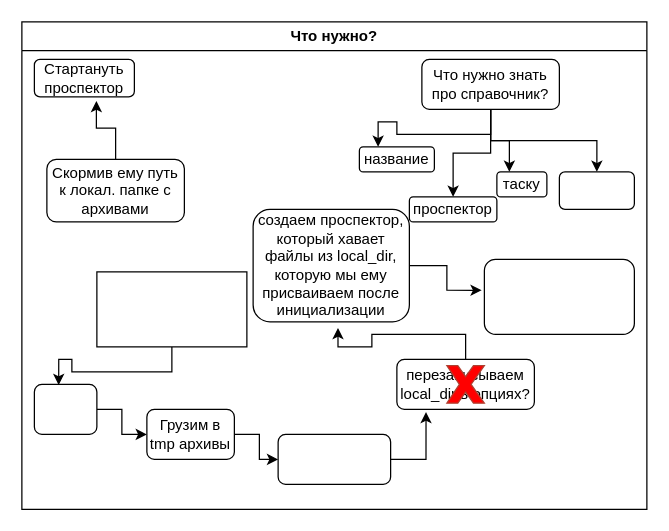
This 669x531 diagram has some shape labels left out. The shapes that lost their labels are listed below. From the top down, each one's centre as x and y in pixels, then its label:
At point (596, 190): "имя файла?".
At point (171, 309): "Что делаем?".
At point (558, 296): "успех!".
At point (65, 408): "Крутим список тасков".
At point (334, 458): "йилдим путь к директории?".
